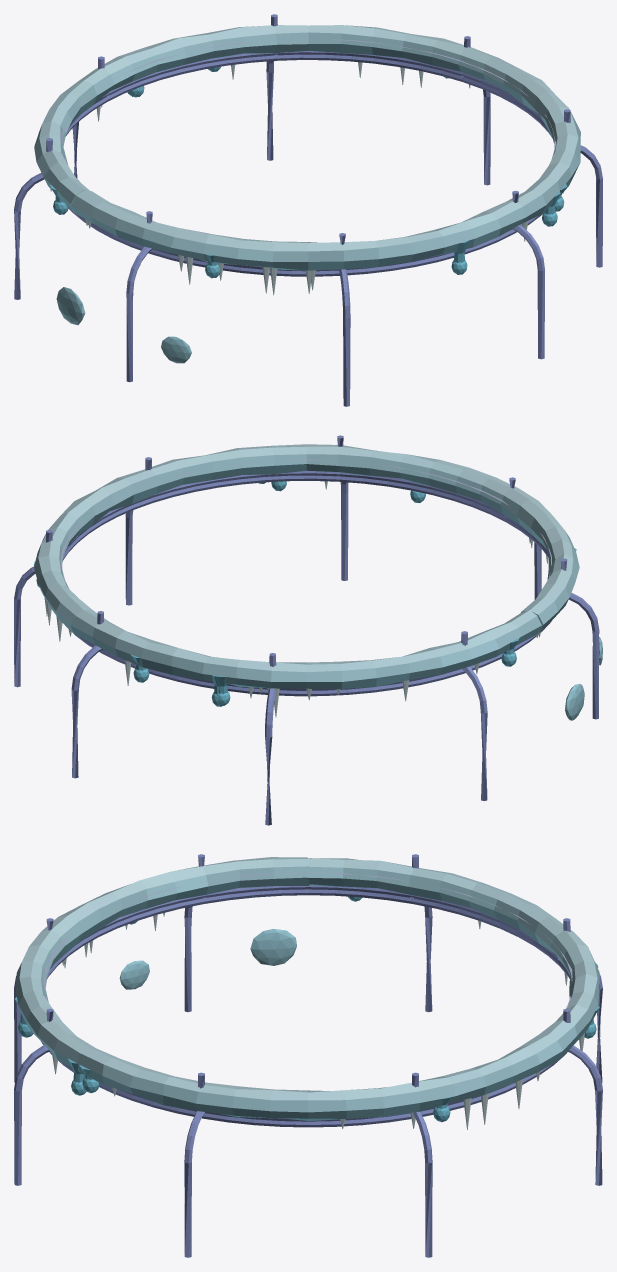
Rendered from goo_jar_trim_2_mid@crystal.fbx.
3 renders of one model, top to bottom at view 1: azimuth 30°, elevation 25°; view 2: azimuth 150°, elevation 25°; view 3: azimuth 270°, elevation 25°, orthographic. The views are drawn at different scales.
Visible parts, largest first — view 1: goo_jar_trim_2_mid; view 2: goo_jar_trim_2_mid; view 3: goo_jar_trim_2_mid.
Boxes of the visible parts, box(x1,y1,x2,y2) form: goo_jar_trim_2_mid: box(14, 14, 602, 406); goo_jar_trim_2_mid: box(14, 435, 602, 825); goo_jar_trim_2_mid: box(14, 854, 602, 1257).
Size of the model in its own units: 53.09 by 16.05 by 50.92.
